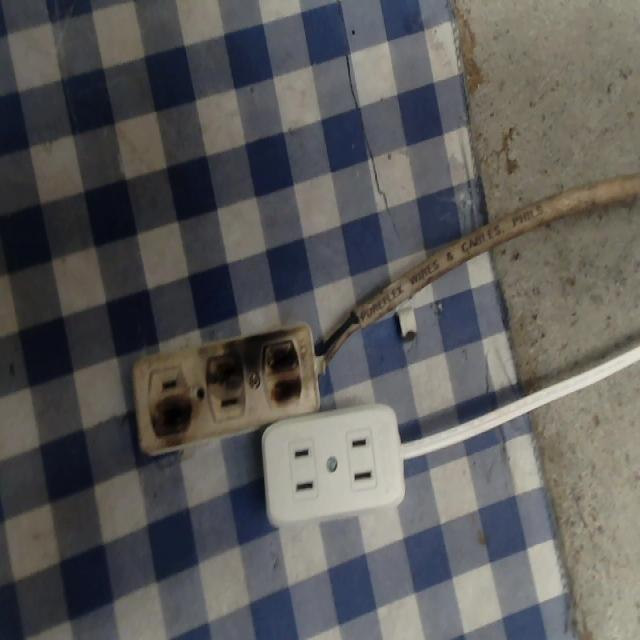-: (256, 321, 310, 408), (144, 393, 196, 451), (204, 334, 250, 390)
